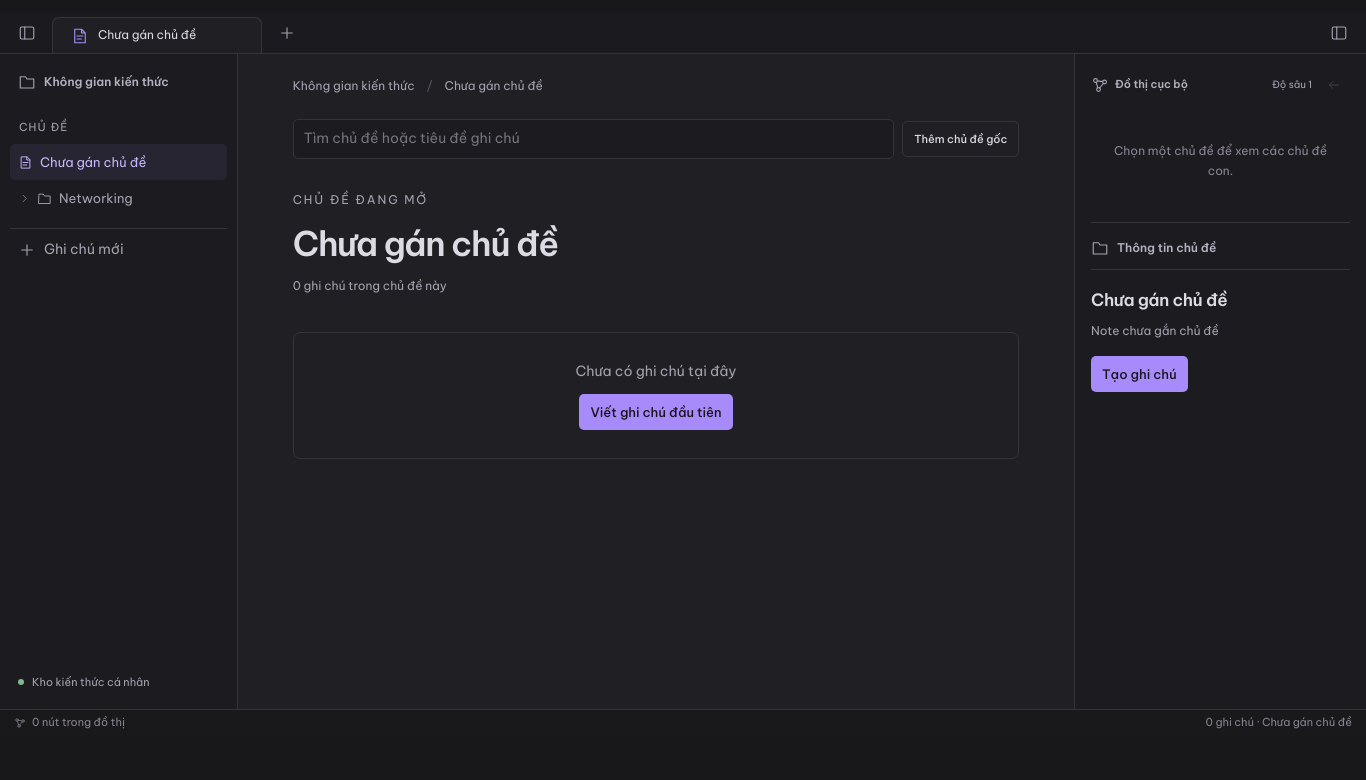
Test: HomePage explorer › collapses the topic sidebar and navigates through its tree
Click the button named "Ẩn cây chủ đề" at coordinates (27, 32), box [9,14,45,50]
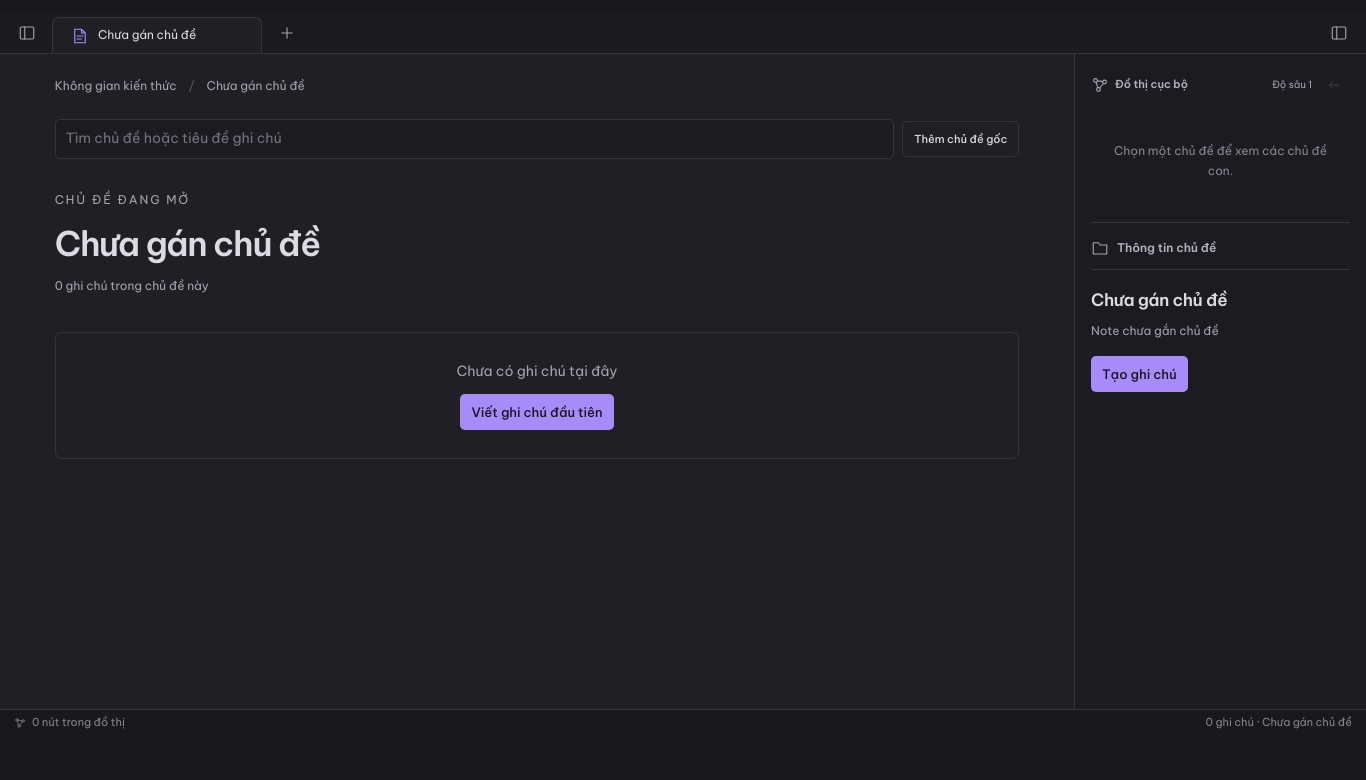
Click the button named "Hiện cây chủ đề" at coordinates (27, 32), box [9,14,45,50]
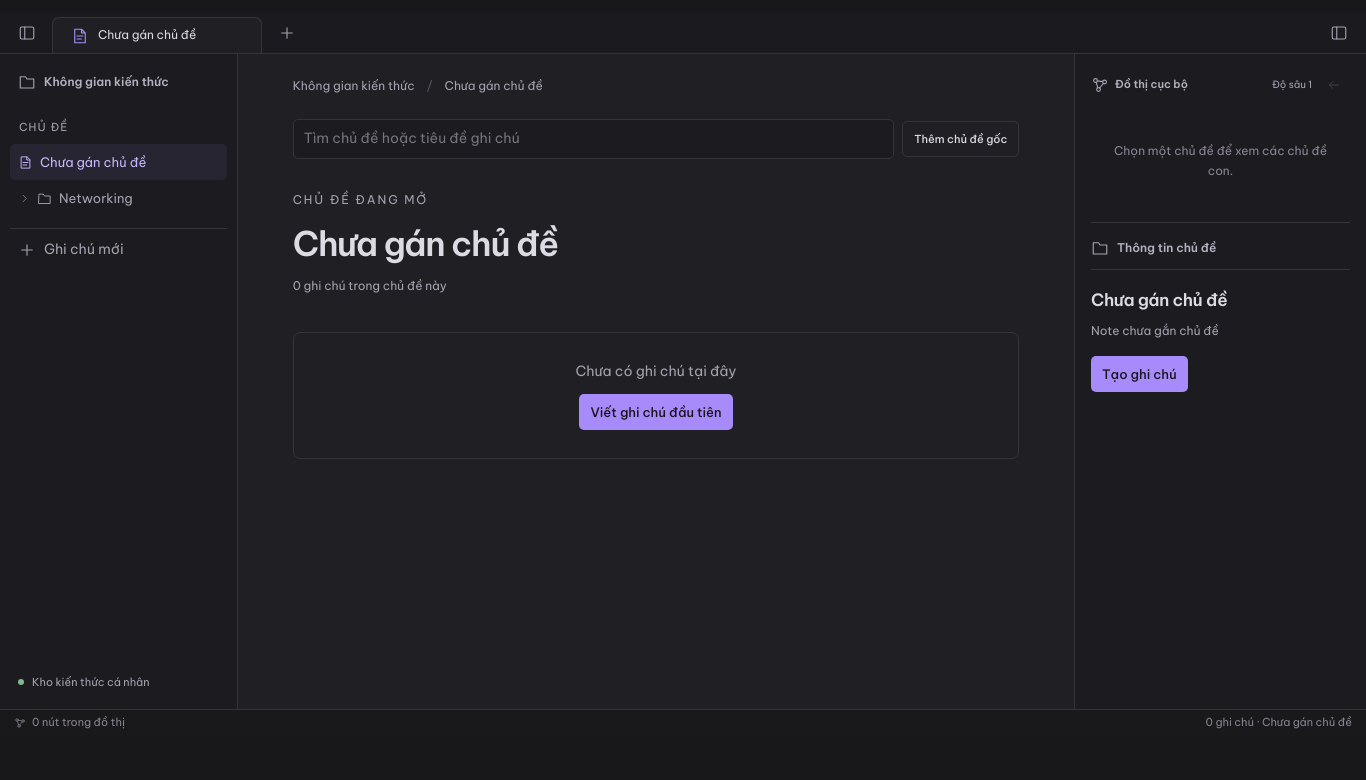
Check: the navigation bar named "Cây chủ đề" is shown, box [0,54,238,709]
Click the button with aria-label "Mở chủ đề Networking" at coordinates (118, 198), box [10,180,227,216]
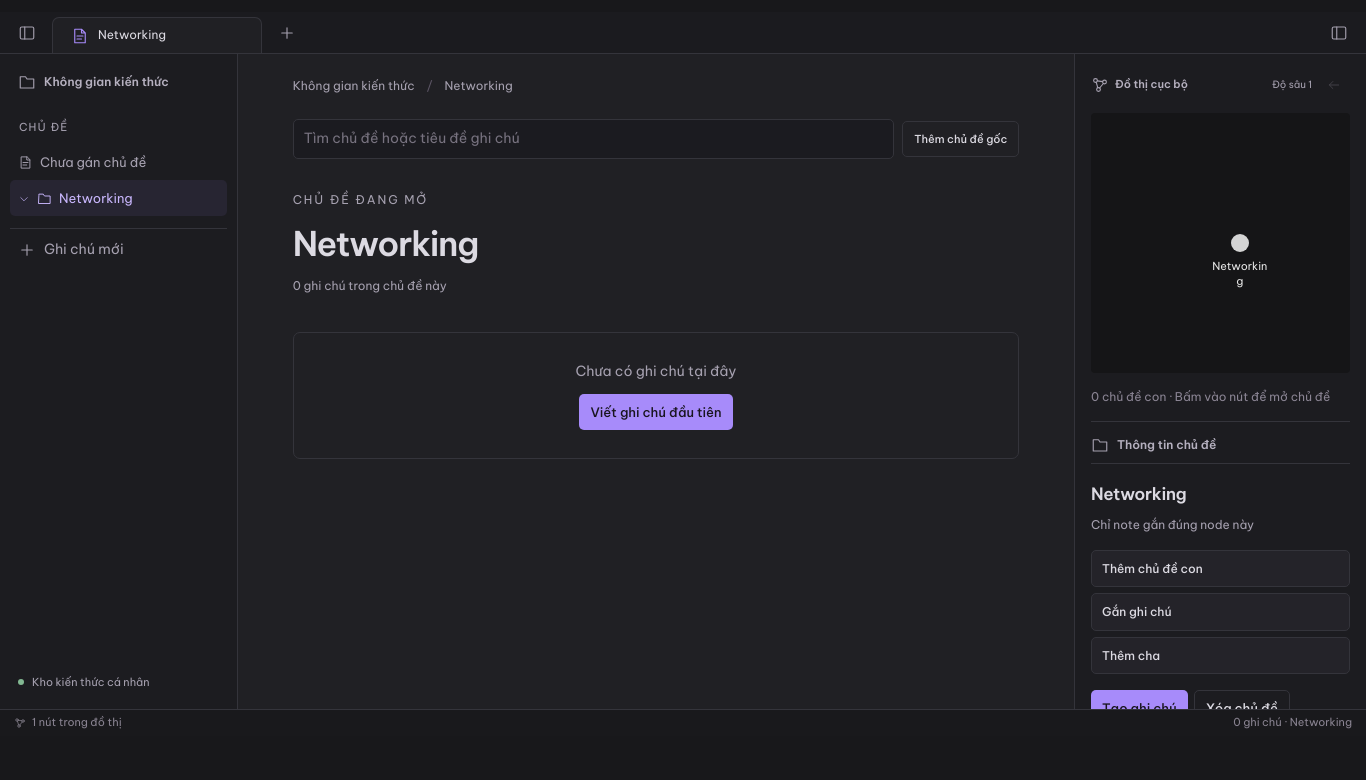
Check: the button "Thêm chủ đề con" is shown, box [1091,550,1350,587]
Click the button named "Ẩn thông tin chủ đề" at coordinates (1339, 32), box [1321,14,1357,50]
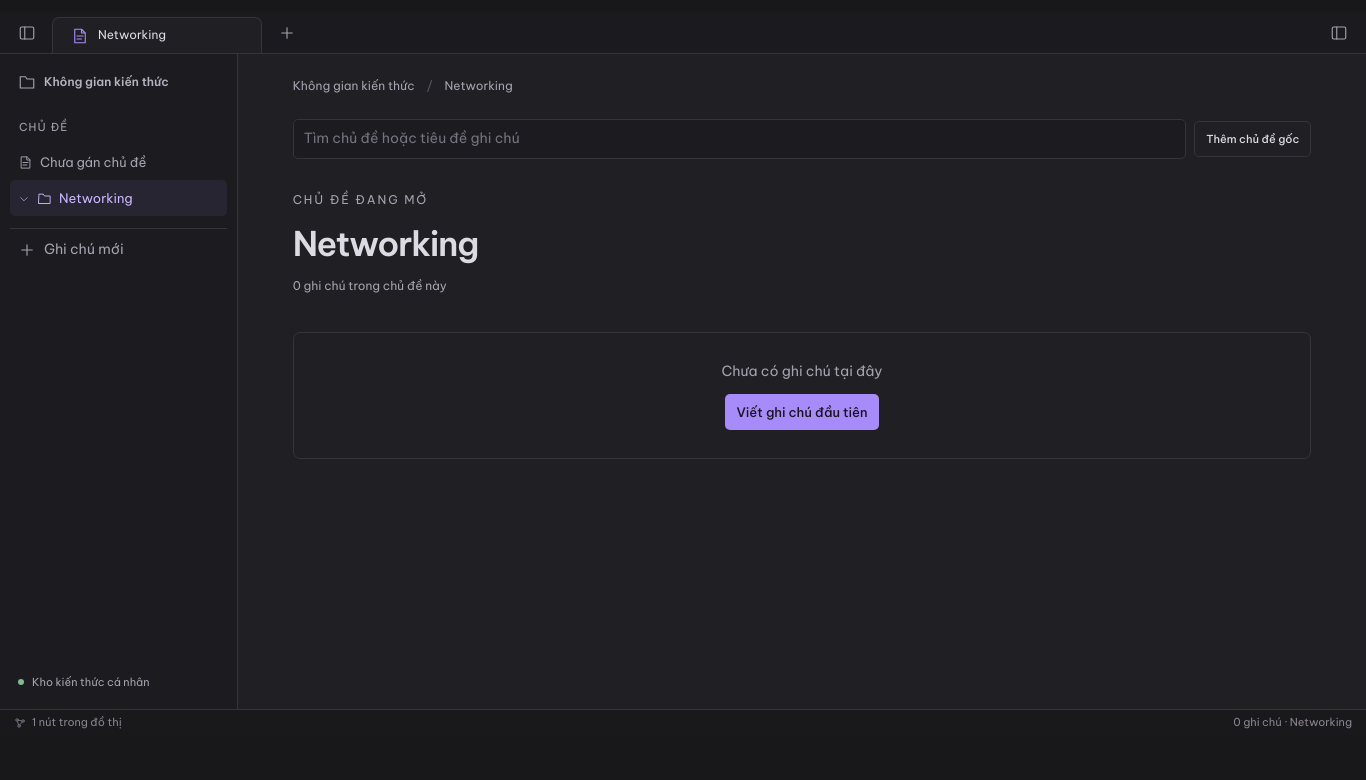
Check: the button "Thêm chủ đề con" is gone
Click the button named "Hiện thông tin chủ đề" at coordinates (1339, 32), box [1321,14,1357,50]
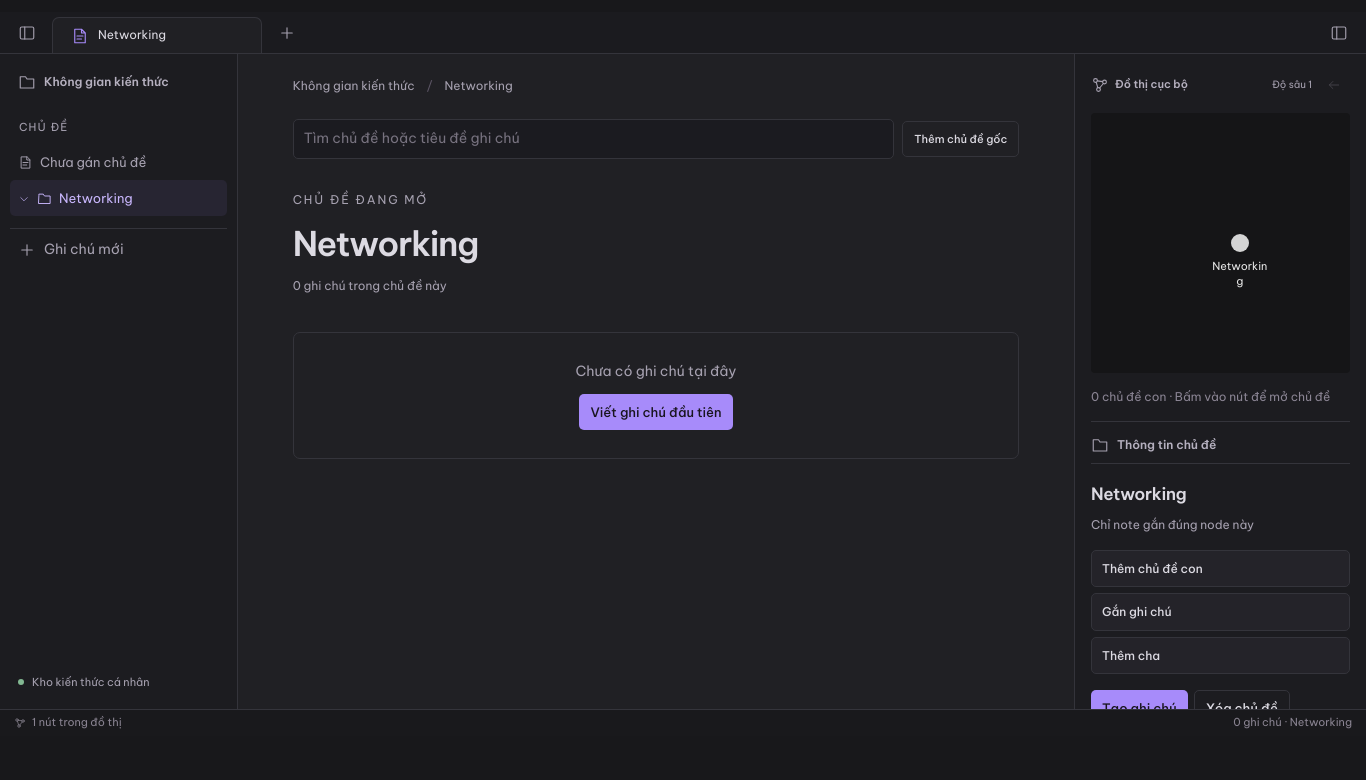
Check: the button "Thêm chủ đề con" is shown, box [1091,550,1350,587]
